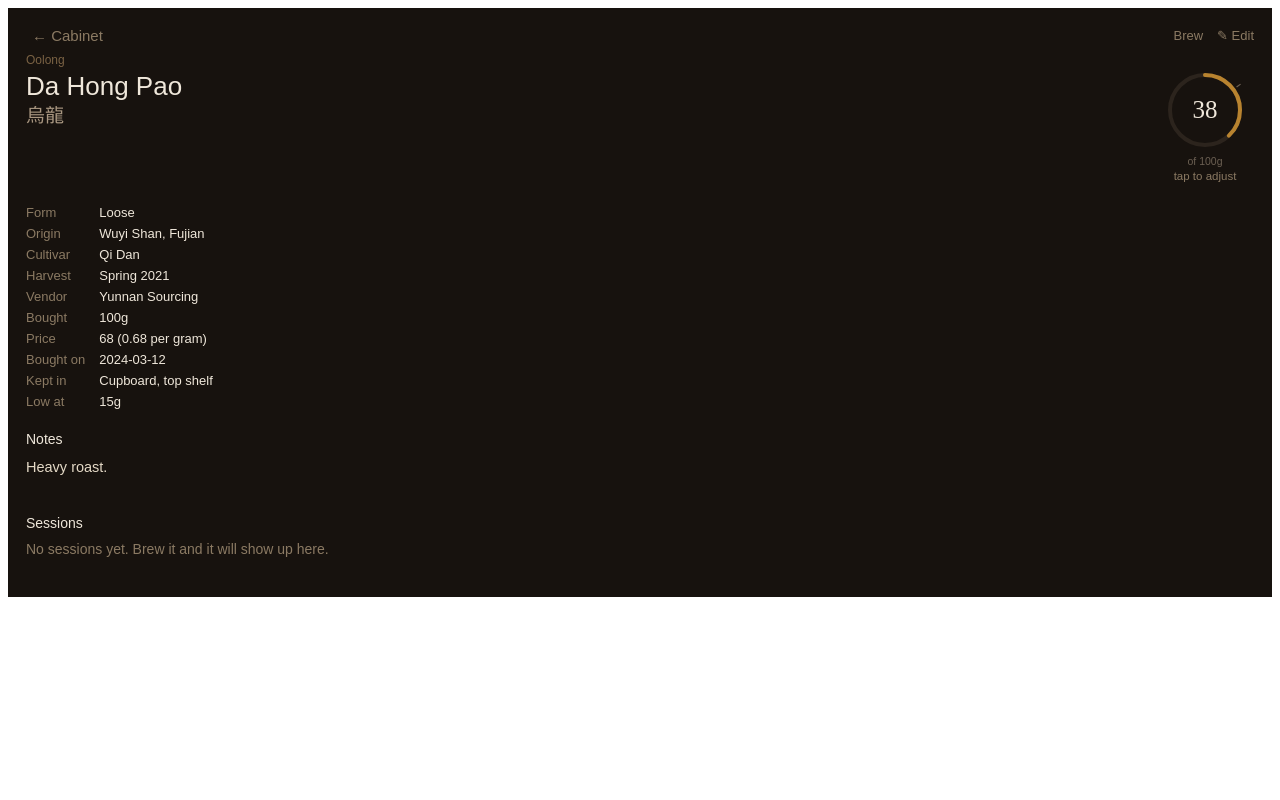
Test: TeaDetailPage › opens the grams sheet from the rim
The image size is (1280, 800).
What coordinates should you click on to do the following:
click the button with test id "tea-rim-button"
I would click on:
 (1205, 118)
Its box is [1156,53,1254,183].
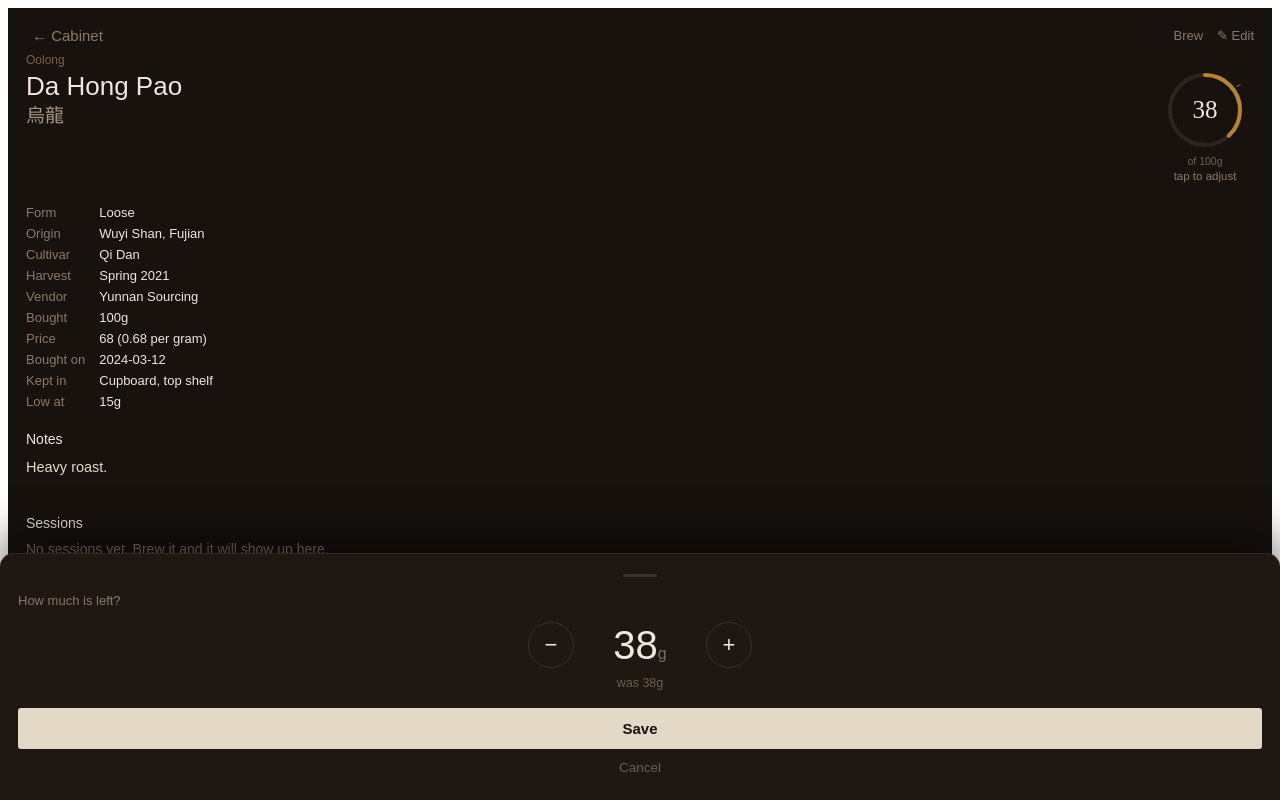
Expected: the element with test id "grams-sheet" is shown, [0,553,1279,799]
